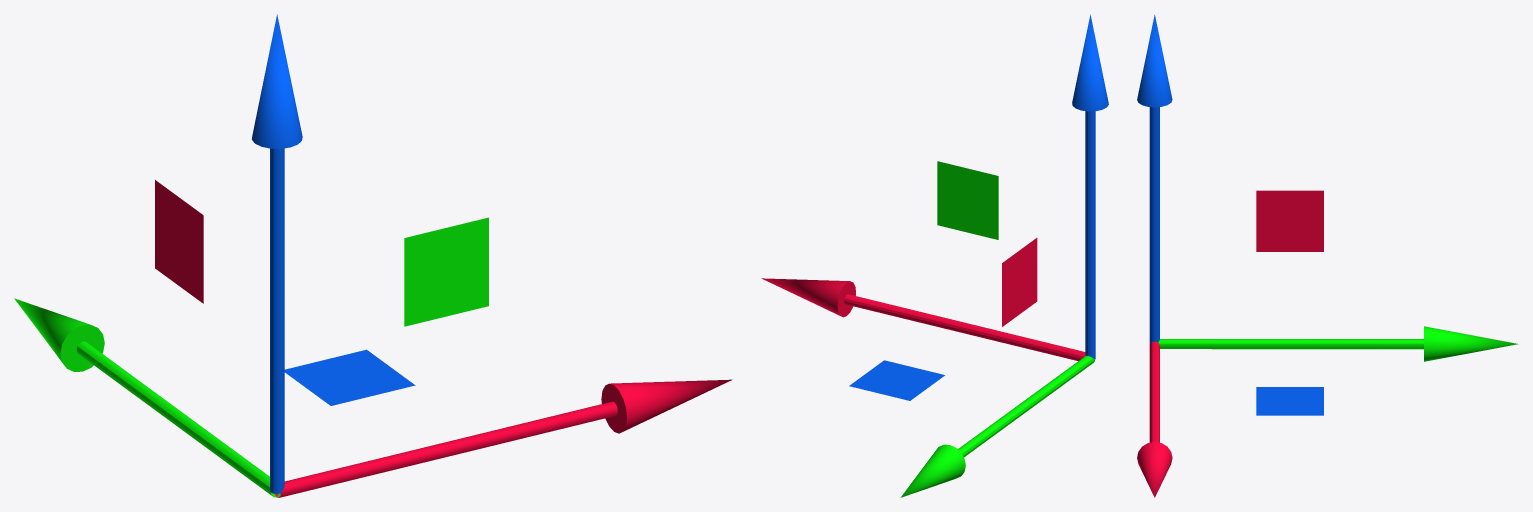
The model's file is tdme_gizmo_translate.fbx.
The picture shows the model from 3 angles, left to right: view 1: azimuth 30°, elevation 25°; view 2: azimuth 150°, elevation 25°; view 3: azimuth 270°, elevation 25°; orthographic projection. The views are drawn at different scales.
Visible parts, largest first — view 1: translate_z, translate_x, translate_y_plane, translate_y, translate_x_plane, translate_z_plane; view 2: translate_z, translate_x, translate_y_plane, translate_y, translate_x_plane, translate_z_plane; view 3: translate_y, translate_z, translate_x_plane, translate_x, translate_z_plane.
Part boxes in pixels (x1,y1,x2,y2): translate_z: [251, 14, 302, 493]; translate_x: [275, 379, 732, 497]; translate_y_plane: [404, 217, 488, 326]; translate_y: [14, 298, 280, 497]; translate_x_plane: [155, 180, 203, 303]; translate_z_plane: [284, 349, 415, 405]; translate_z: [1072, 14, 1108, 359]; translate_x: [761, 278, 1085, 360]; translate_y_plane: [937, 161, 998, 239]; translate_y: [900, 355, 1094, 497]; translate_x_plane: [1002, 238, 1037, 326]; translate_z_plane: [849, 360, 944, 400]; translate_y: [1158, 326, 1518, 361]; translate_z: [1137, 14, 1172, 343]; translate_x_plane: [1256, 190, 1323, 251]; translate_x: [1137, 341, 1172, 497]; translate_z_plane: [1256, 387, 1323, 415].
Bounding box in the file's own units: 113 × 113 × 113.
